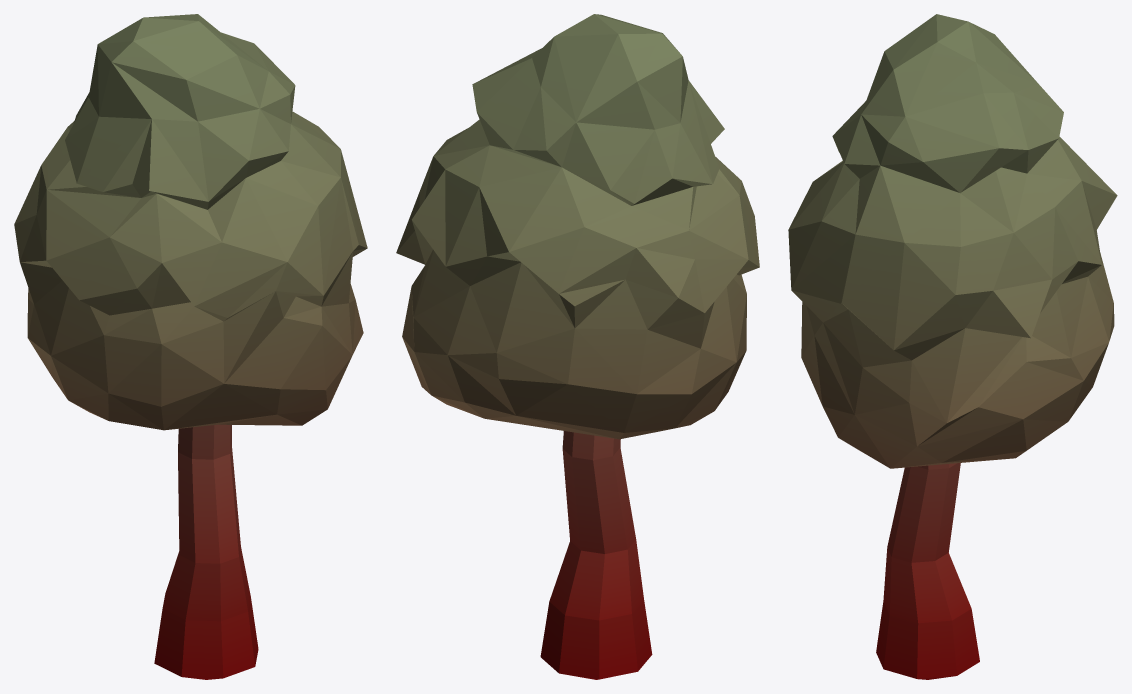
Rendered from synty-tree-round-03.gltf.
The picture shows the model from 3 angles, left to right: view 1: azimuth 30°, elevation 25°; view 2: azimuth 150°, elevation 25°; view 3: azimuth 270°, elevation 25°; orthographic projection. The views are drawn at different scales.
Parts seen in each view (by area): view 1: SM_Tree_Round_03; view 2: SM_Tree_Round_03; view 3: SM_Tree_Round_03.
Part boxes in pixels (x1,y1,x2,y2): SM_Tree_Round_03: (14, 14, 367, 679); SM_Tree_Round_03: (396, 14, 759, 679); SM_Tree_Round_03: (788, 14, 1117, 679).
Bounding box in the file's own units: 1.78 × 3.6 × 1.68.
Materials: 1 (1 with a texture image).
